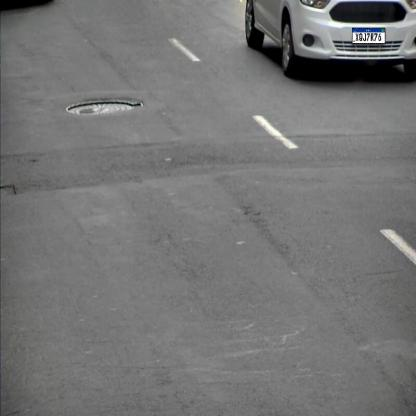PlacaM: (352, 28, 385, 44)
